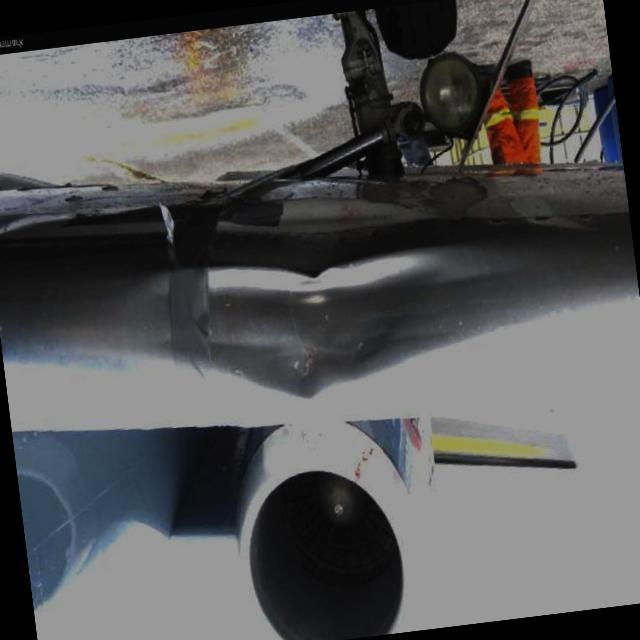dent: (153, 230, 492, 421)
